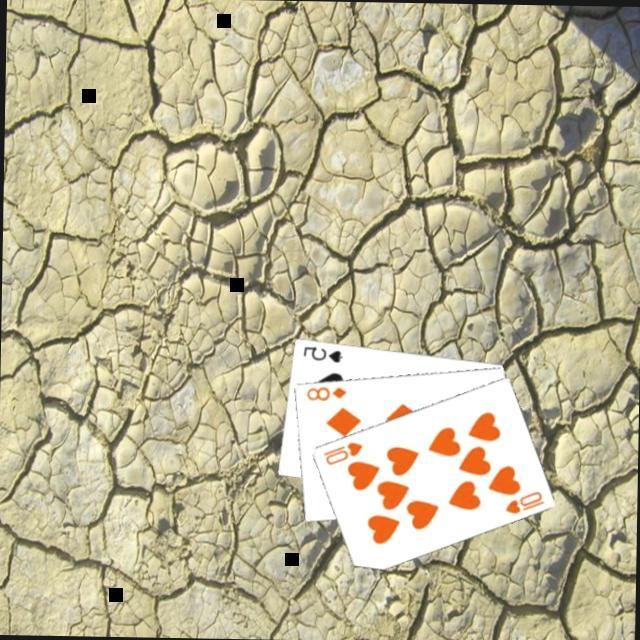10H: (317, 439, 363, 470), (499, 487, 545, 517)
5S: (297, 343, 343, 366)
8D: (301, 383, 347, 404)
